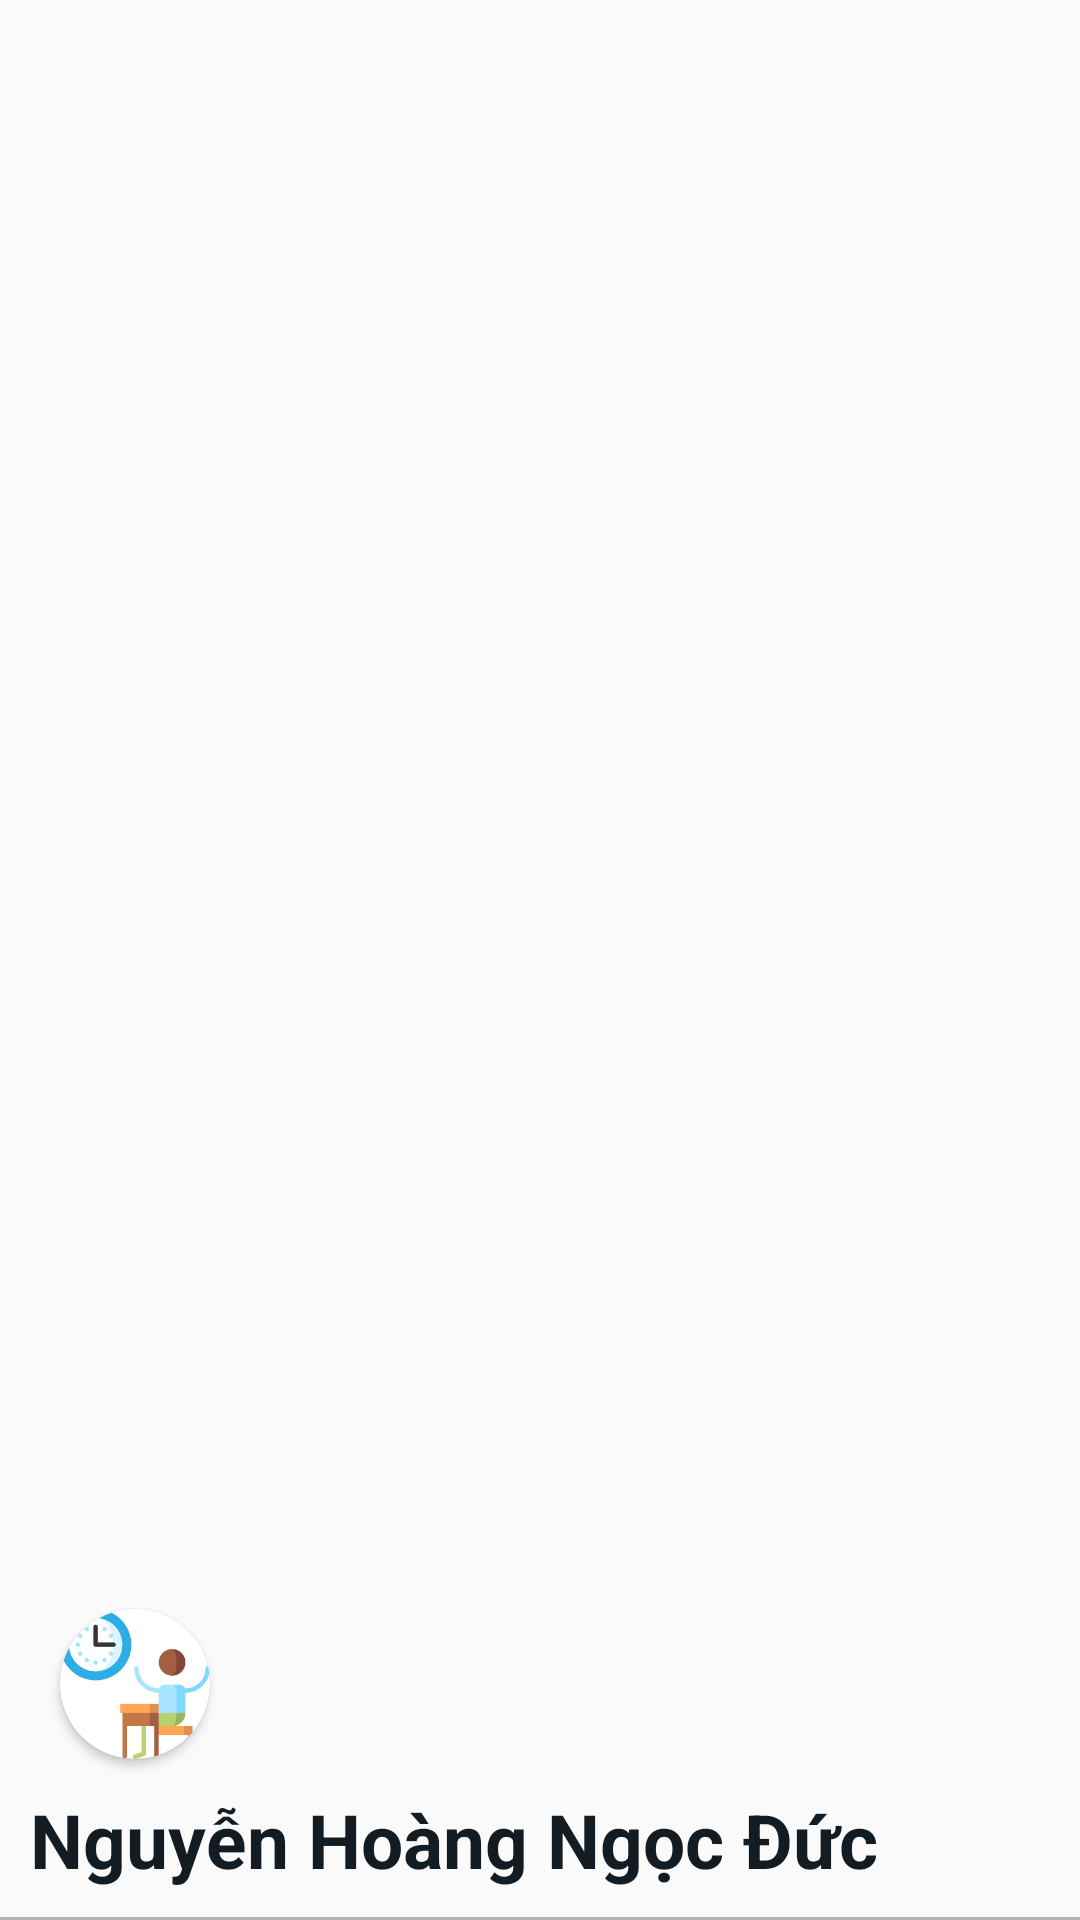

Screen size 1080px×1920px. Icon name, then its box in pixels as (x1, y1, x2, y2):
classroom: (60, 1612, 209, 1759)
